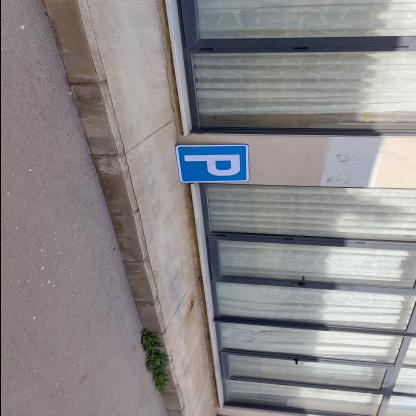Parking-Sign: (173, 144, 251, 185)
